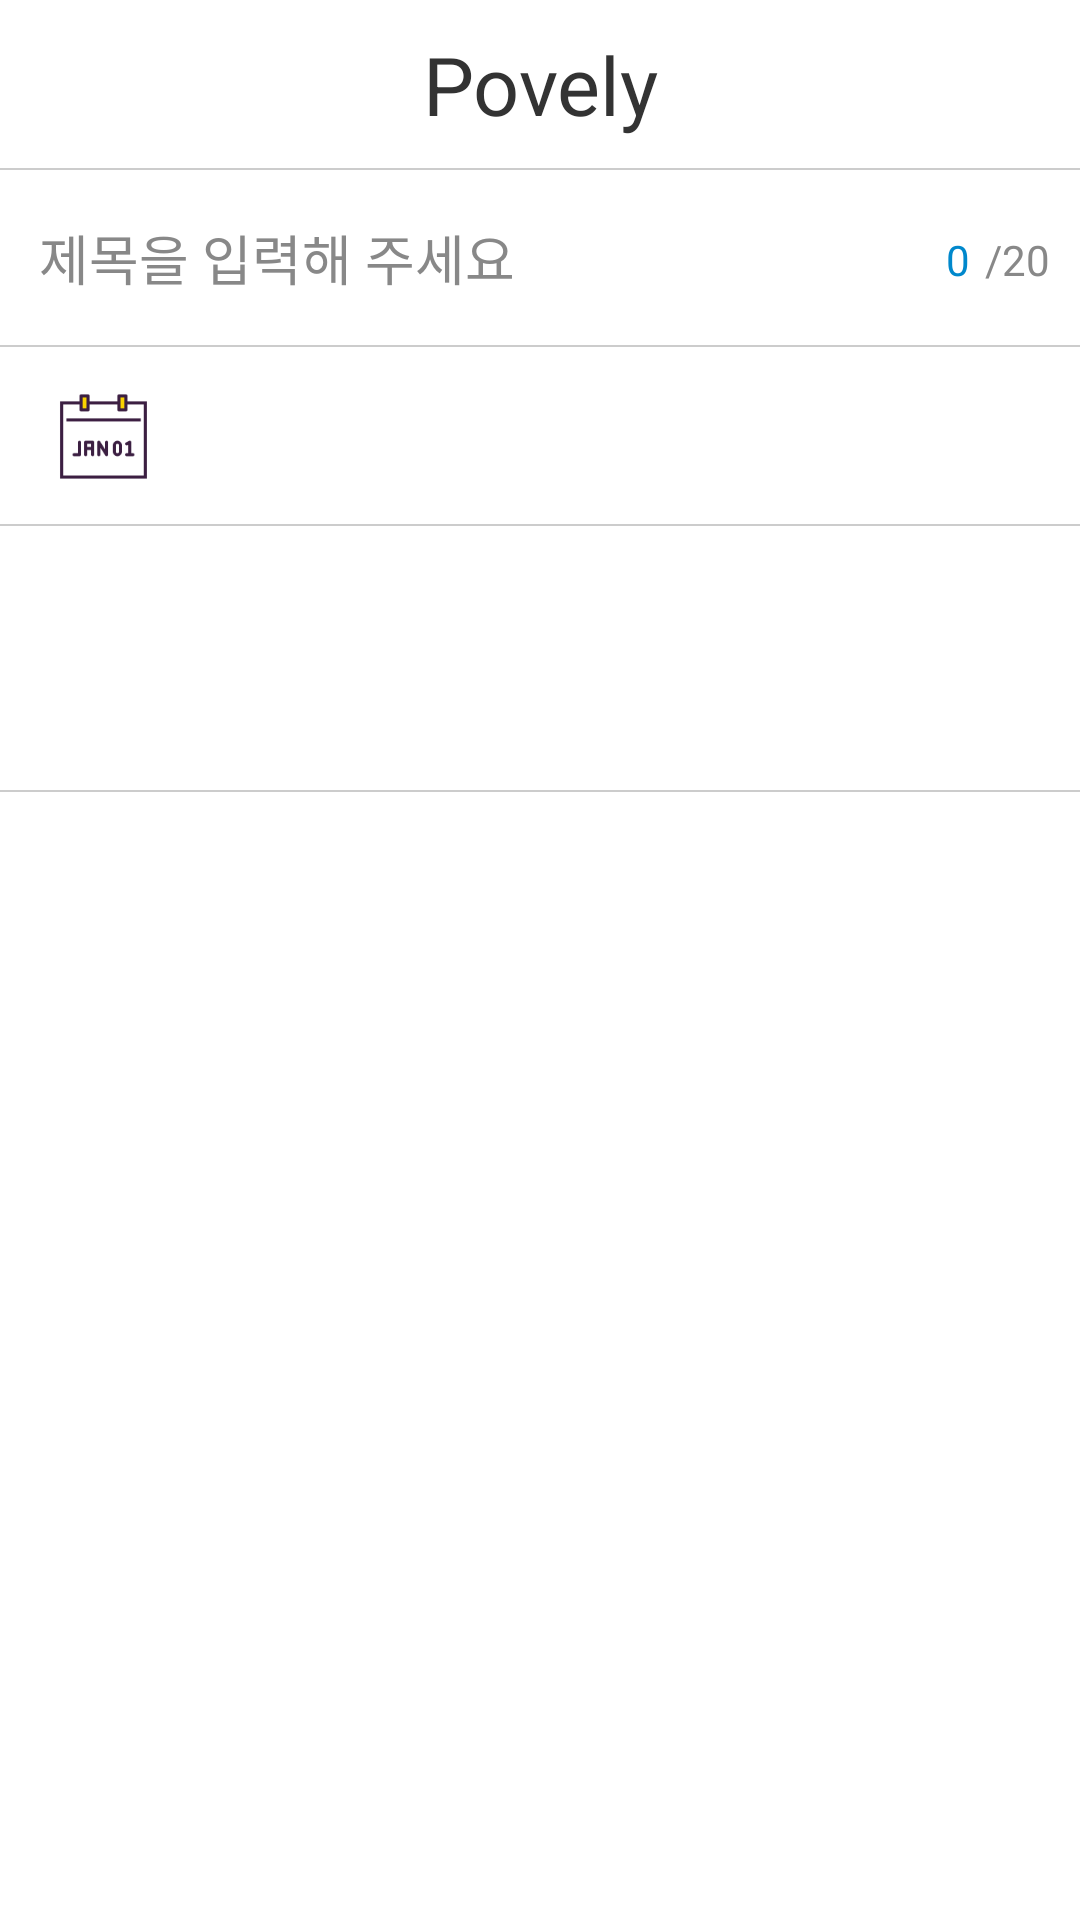

Icon bounding boxes for this 1080×1920 phone screenshot, format region(x1, y1, x2, y2):
callendar: region(60, 394, 147, 479)
